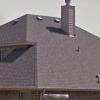Chimney: (55, 2, 77, 38)
